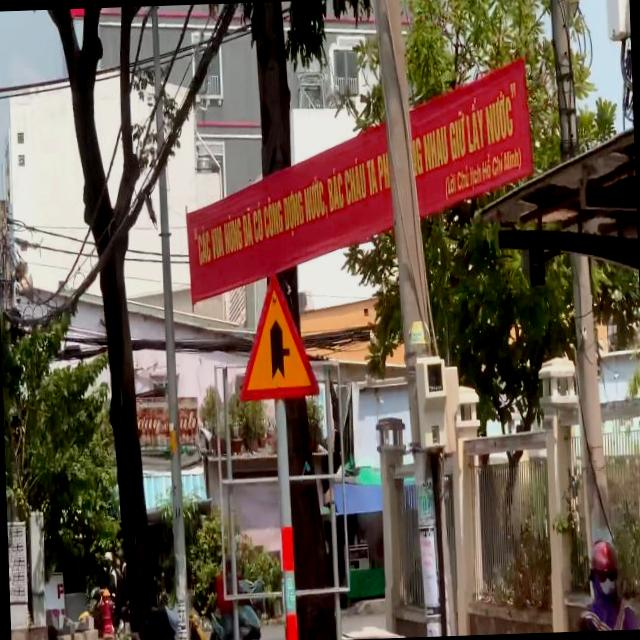Giao nhau voi duong khong uu tien ben phai: (234, 267, 322, 403)
